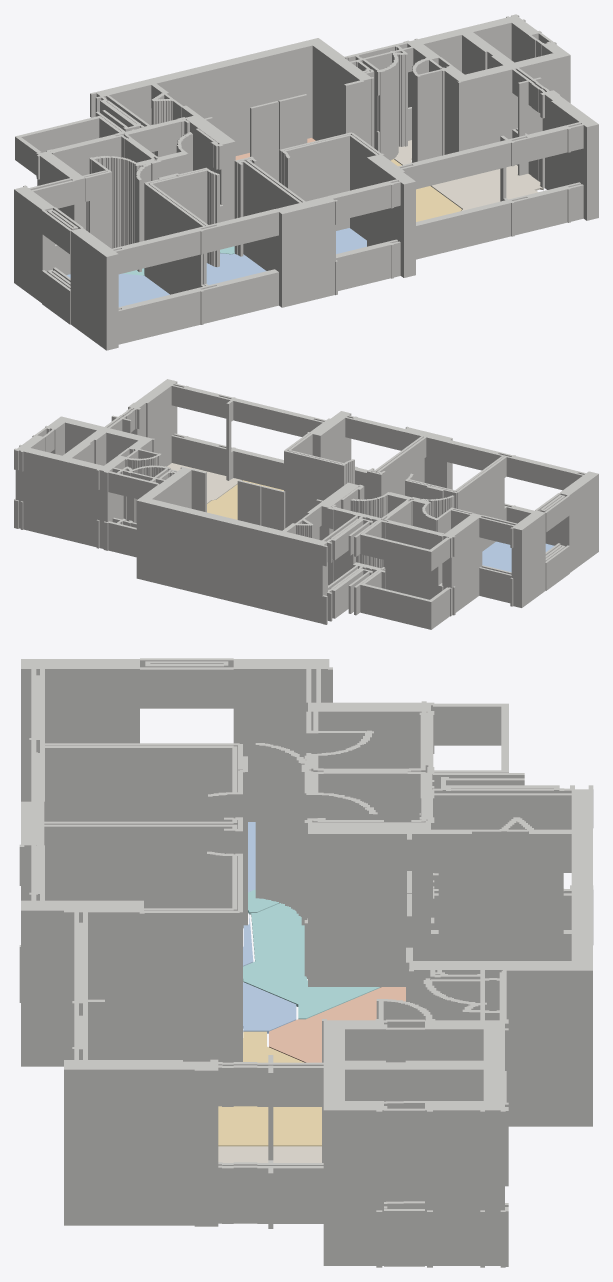
3 views of the same model, one above another, from view 1: azimuth 30°, elevation 25°; view 2: azimuth 150°, elevation 25°; view 3: azimuth 270°, elevation 25° (orthographic). The views are drawn at different scales.
Visible parts, largest first — view 1: walls, room:other:6, room:bedroom:3, room:bedroom:4, room:living:11, room:bedroom:8; view 2: walls, room:bedroom:3, room:living:11, room:other:6; view 3: walls, room:bath:10, room:living:11, room:kitchen:9, room:bedroom:8, room:other:6.
Boxes of the visible parts, bbox=[...] form: walls: bbox=[14, 14, 598, 350]; room:other:6: bbox=[394, 140, 545, 210]; room:bedroom:3: bbox=[66, 273, 169, 306]; room:bedroom:4: bbox=[206, 253, 266, 285]; room:living:11: bbox=[390, 159, 461, 221]; room:bedroom:8: bbox=[336, 228, 366, 253]; walls: bbox=[14, 379, 598, 629]; room:bedroom:3: bbox=[482, 541, 554, 572]; room:living:11: bbox=[207, 480, 283, 519]; room:other:6: bbox=[167, 463, 242, 503]; walls: bbox=[19, 658, 593, 1267]; room:bath:10: bbox=[243, 903, 379, 1019]; room:living:11: bbox=[218, 1031, 321, 1146]; room:kitchen:9: bbox=[269, 987, 405, 1062]; room:bedroom:8: bbox=[243, 982, 296, 1033]; room:other:6: bbox=[218, 1146, 321, 1162].
Bounding box in the file's own units: 17.45 × 2.8 × 9.34.
